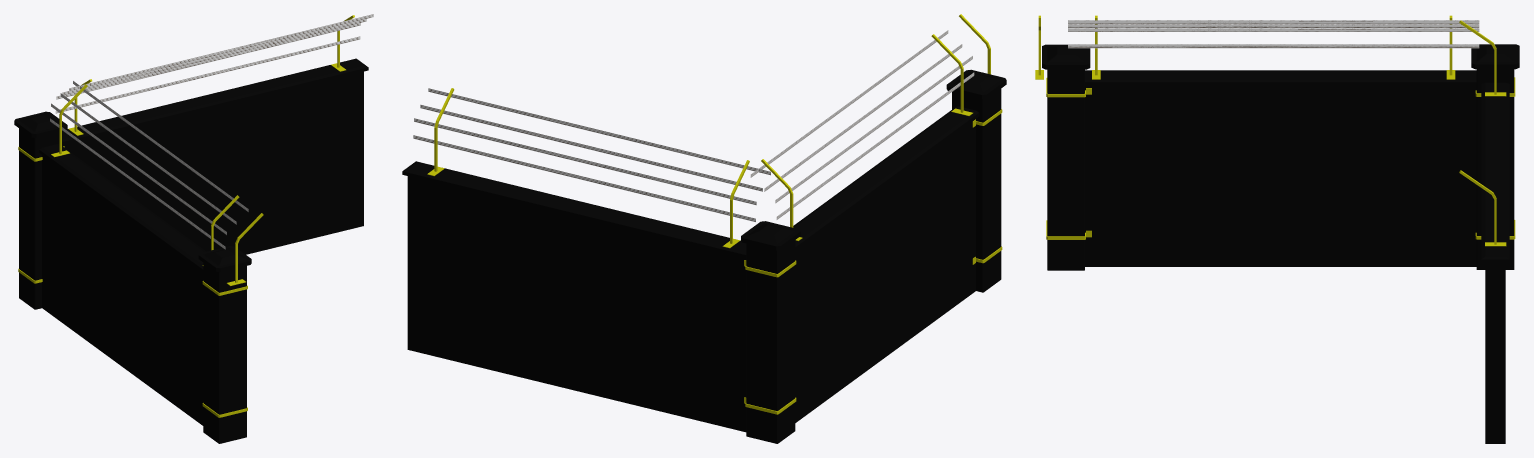
Rendered from Wall_LeftCorner.fbx.
3 renders of one model, left to right at view 1: azimuth 30°, elevation 25°; view 2: azimuth 150°, elevation 25°; view 3: azimuth 270°, elevation 25°, orthographic. The views are drawn at different scales.
Visible parts, largest first — view 1: Wall_LeftCorder; view 2: Wall_LeftCorder; view 3: Wall_LeftCorder.
Part boxes in pixels (x1,y1,x2,y2): Wall_LeftCorder: (14,14,373,443); Wall_LeftCorder: (402,14,1006,443); Wall_LeftCorder: (1035,15,1519,443).
Bounding box in the file's own units: 6.69 × 4.21 × 7.07.
